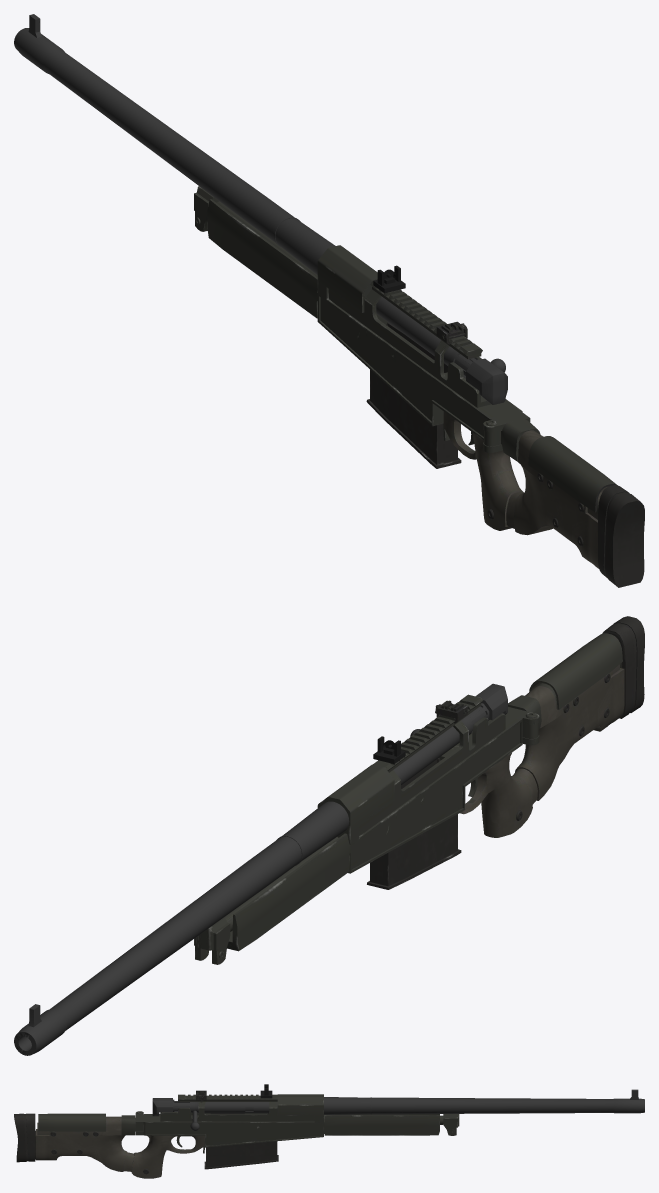
Rendered from AWM.glb.
3 views of the same model, one above another, from view 1: azimuth 30°, elevation 25°; view 2: azimuth 150°, elevation 25°; view 3: azimuth 270°, elevation 25° (orthographic). The views are drawn at different scales.
Visible parts, largest first — view 1: AWM_Body; view 2: AWM_Body; view 3: AWM_Body.
Boxes of the visible parts, x1,y1,x2,y2 form: AWM_Body: (14, 14, 644, 587); AWM_Body: (14, 616, 644, 1055); AWM_Body: (14, 1089, 644, 1178).
Bounding box in the file's own units: 0.0832 × 0.1862 × 1.2.
Materials: 5 (5 with a texture image).
